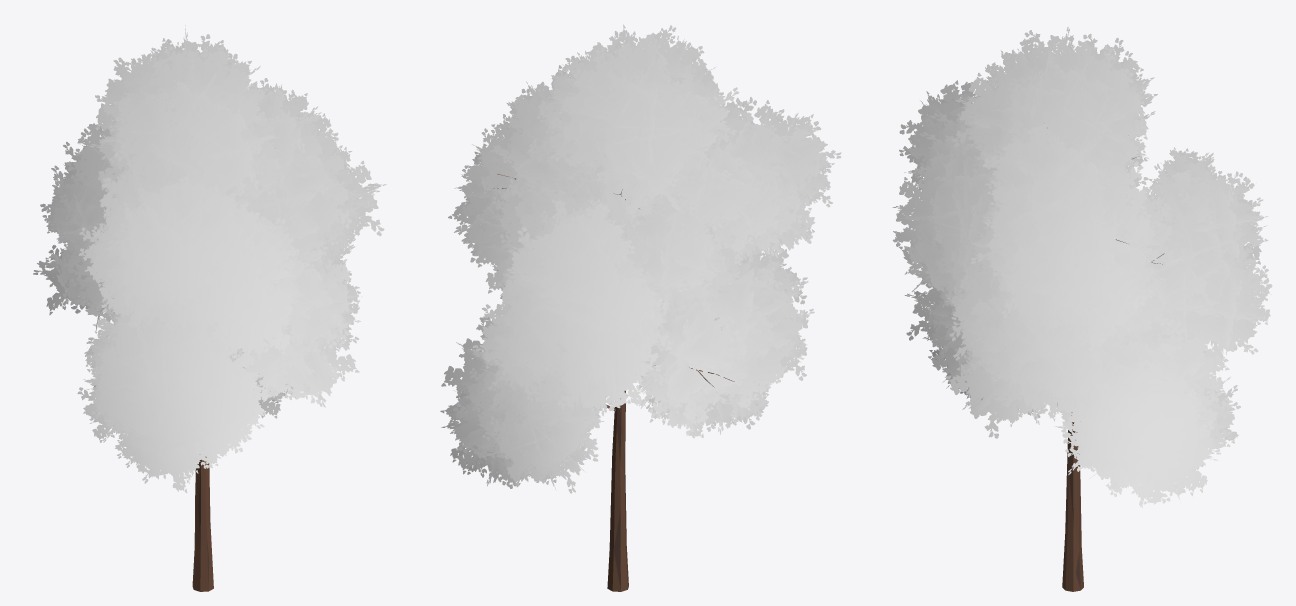
Rendered from mesh_tree_oak_01.fbx.
The picture shows the model from 3 angles, left to right: view 1: azimuth 30°, elevation 25°; view 2: azimuth 150°, elevation 25°; view 3: azimuth 270°, elevation 25°; orthographic projection. The views are drawn at different scales.
Visible parts, largest first — view 1: mesh_tree_oak_01_leaves, mesh_tree_oak_01_trunk_LOD0; view 2: mesh_tree_oak_01_leaves, mesh_tree_oak_01_trunk_LOD0; view 3: mesh_tree_oak_01_leaves, mesh_tree_oak_01_trunk_LOD0.
Boxes of the visible parts, x1,y1,x2,y2 form: mesh_tree_oak_01_leaves: (33,25,386,493); mesh_tree_oak_01_trunk_LOD0: (93,386,213,591); mesh_tree_oak_01_leaves: (440,24,841,493); mesh_tree_oak_01_trunk_LOD0: (493,174,734,591); mesh_tree_oak_01_leaves: (892,27,1272,508); mesh_tree_oak_01_trunk_LOD0: (1062,157,1164,591).
Size of what is drawn, in the model's own units: 9.55 by 14.92 by 9.8.
